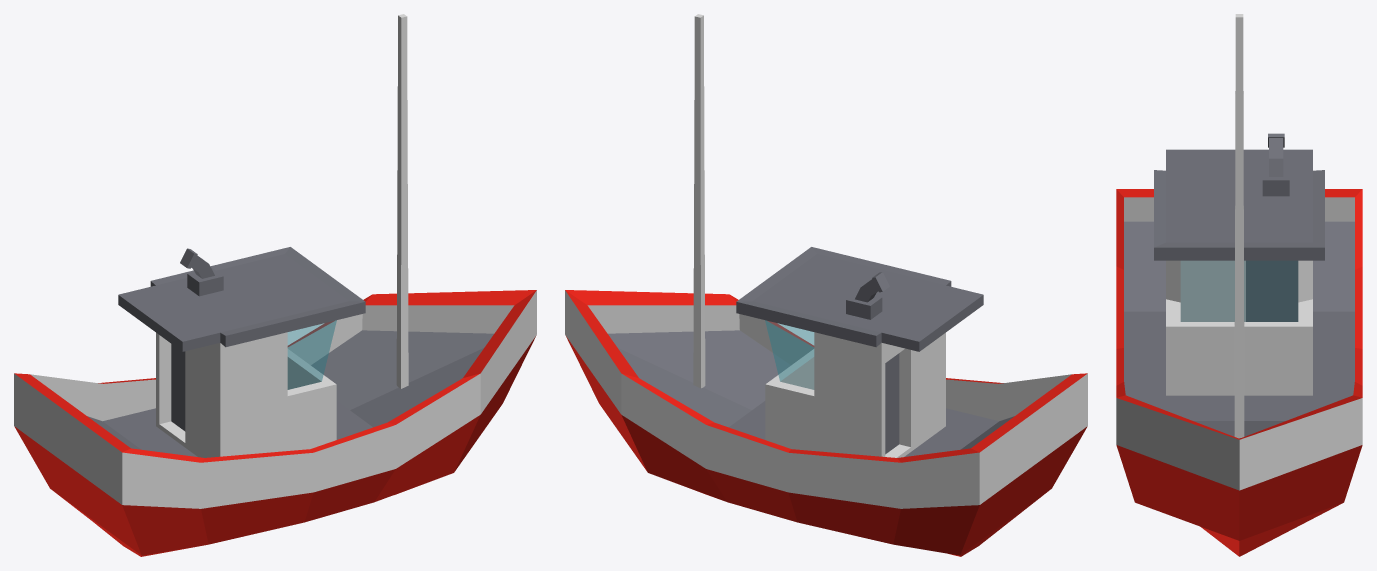
Rendered from boat3.fbx.
3 views of the same model, side by side, from view 1: azimuth 30°, elevation 25°; view 2: azimuth 150°, elevation 25°; view 3: azimuth 270°, elevation 25° (orthographic). The views are drawn at different scales.
Parts seen in each view (by area): view 1: bateau variation.3; view 2: bateau variation.3; view 3: bateau variation.3.
Boxes of the visible parts, box(x1,y1,x2,y2) form: bateau variation.3: box(14, 14, 536, 556); bateau variation.3: box(565, 14, 1087, 556); bateau variation.3: box(1116, 14, 1362, 556).
Bounding box in the file's own units: 211 × 200 × 84.47.
